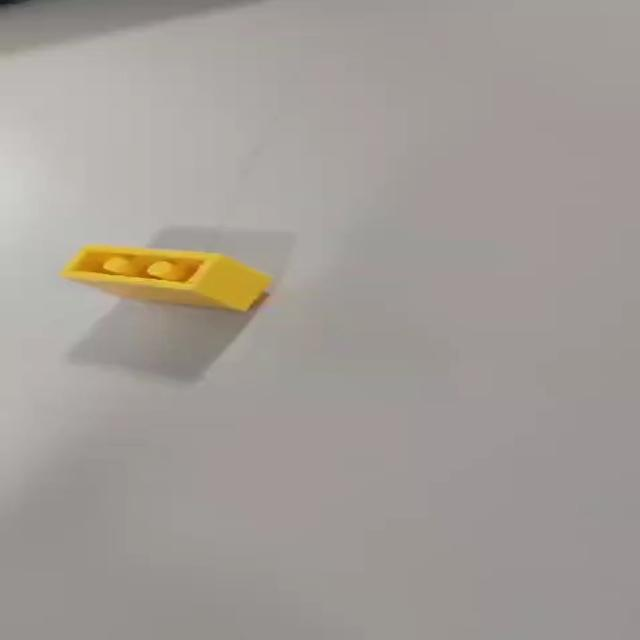C3x1x1: (56, 242, 282, 313)
